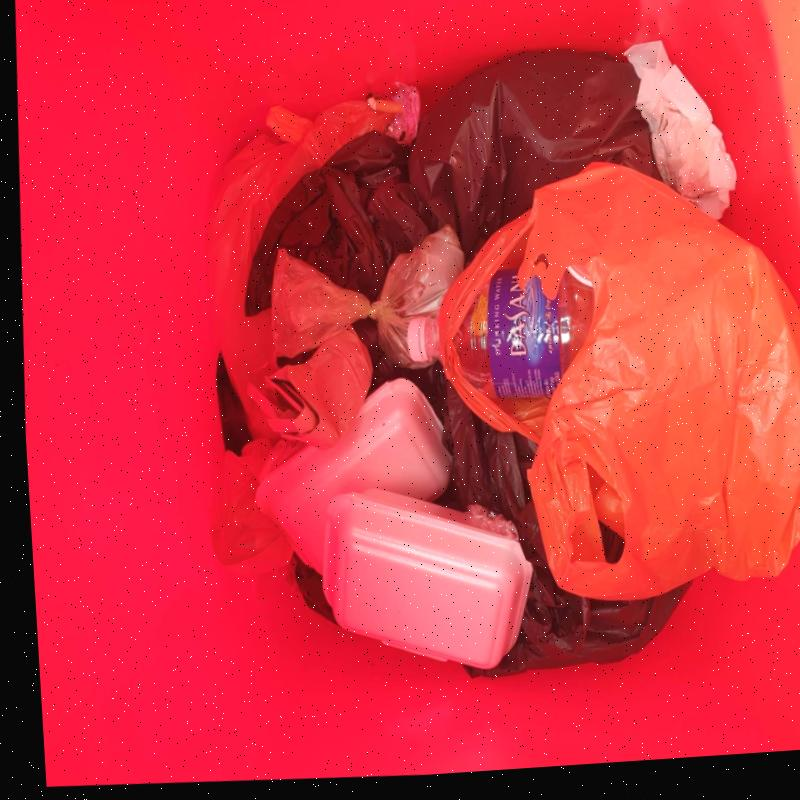paper: (622, 40, 735, 219)
plastic bag: (510, 161, 800, 601), (270, 224, 462, 367)
plastic bottle: (452, 265, 592, 397)
styrofoam containers: (253, 377, 450, 574), (320, 488, 531, 669)
